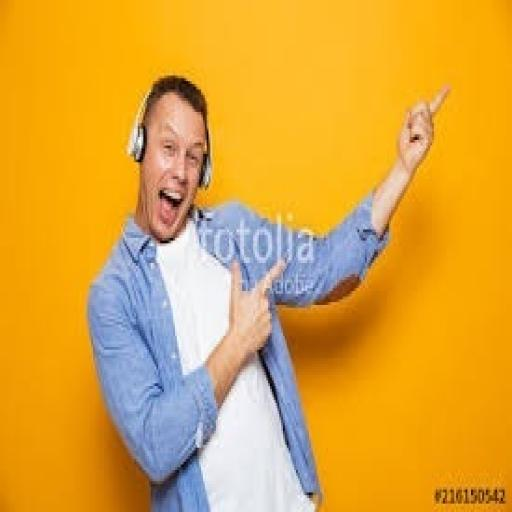listening_to_music: (84, 70, 452, 509), (125, 76, 214, 193)
